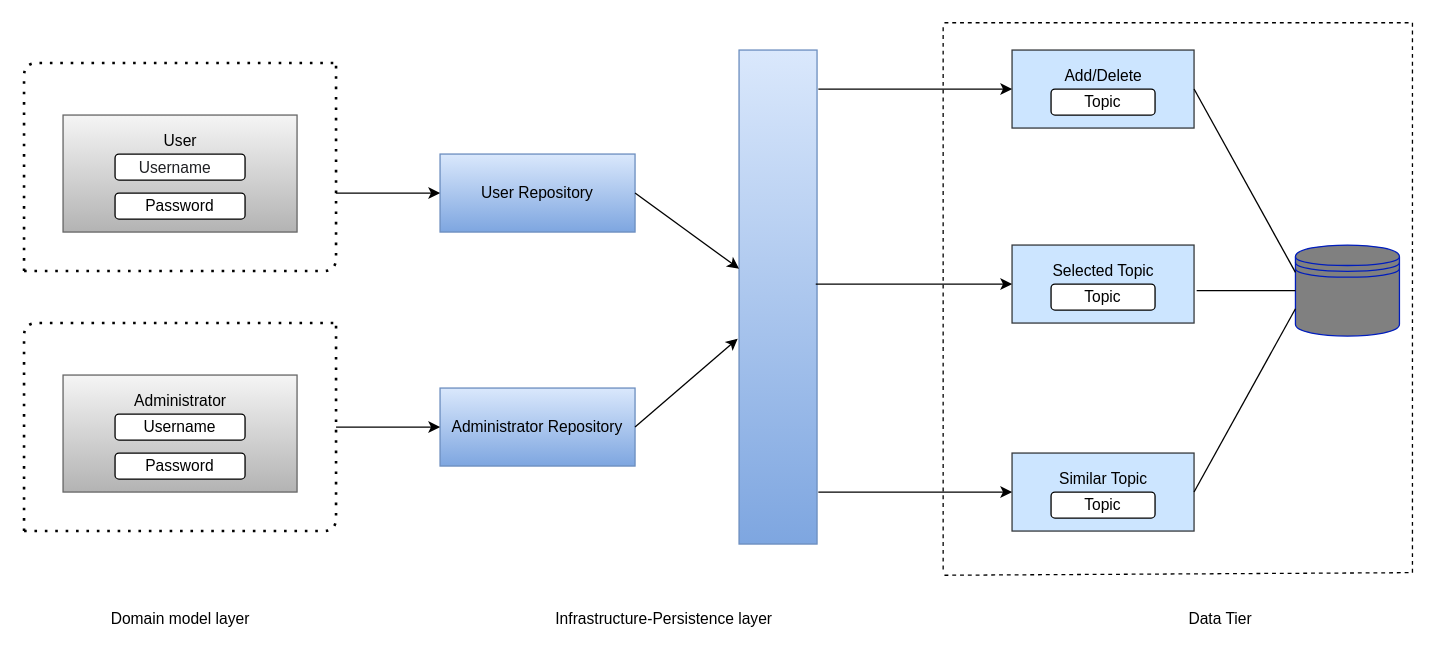
This 1437x654 diagram has some shape labels left out. Here are the shapes that lost their labels. From the top down, the centre of each, then its label:
[777,296]: Home Page
[1346,290]: Database Topic
